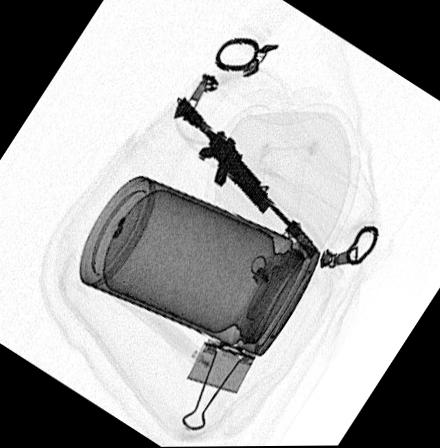Gun: (170, 93, 317, 264)
